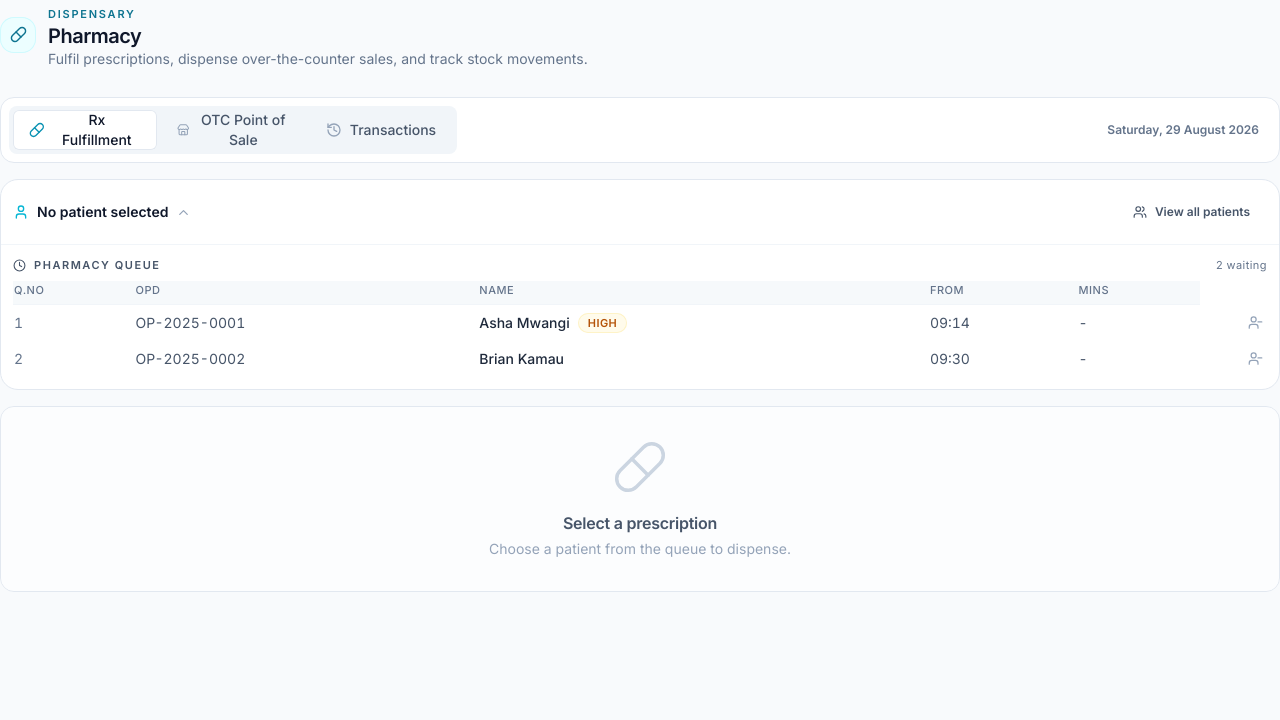
Scenario: Pharmacy: Rx fulfillment tab › clicking a queue row sets the active order and shows the dispense panel
Click the button "Asha Mwangi High" at [553, 323], box [479,313,627,333]
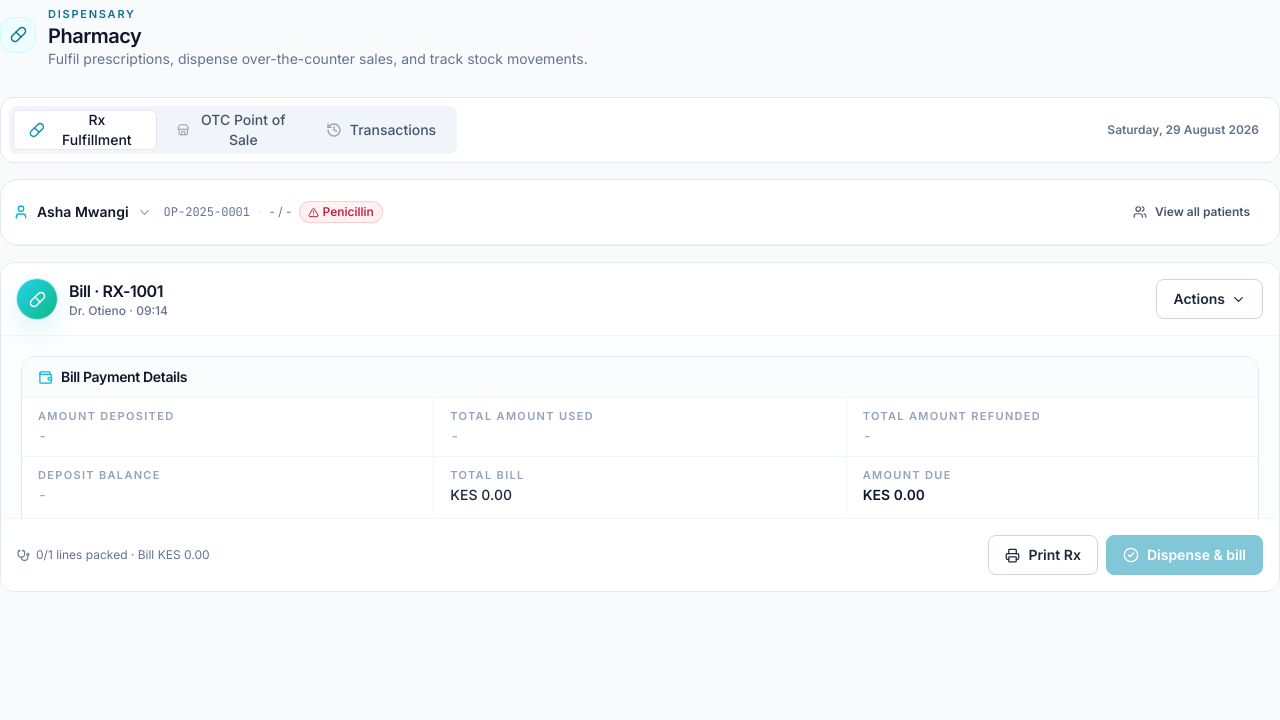
expect the heading "Bill · RX-1001" is shown: met, box [69,279,168,303]
expect the button "Dispense & bill" is shown: met, box [1106,535,1263,575]
